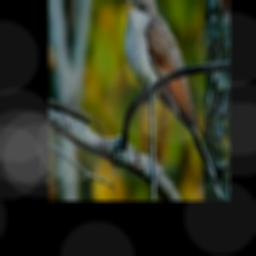Cuckoo: (123, 0, 224, 201)
